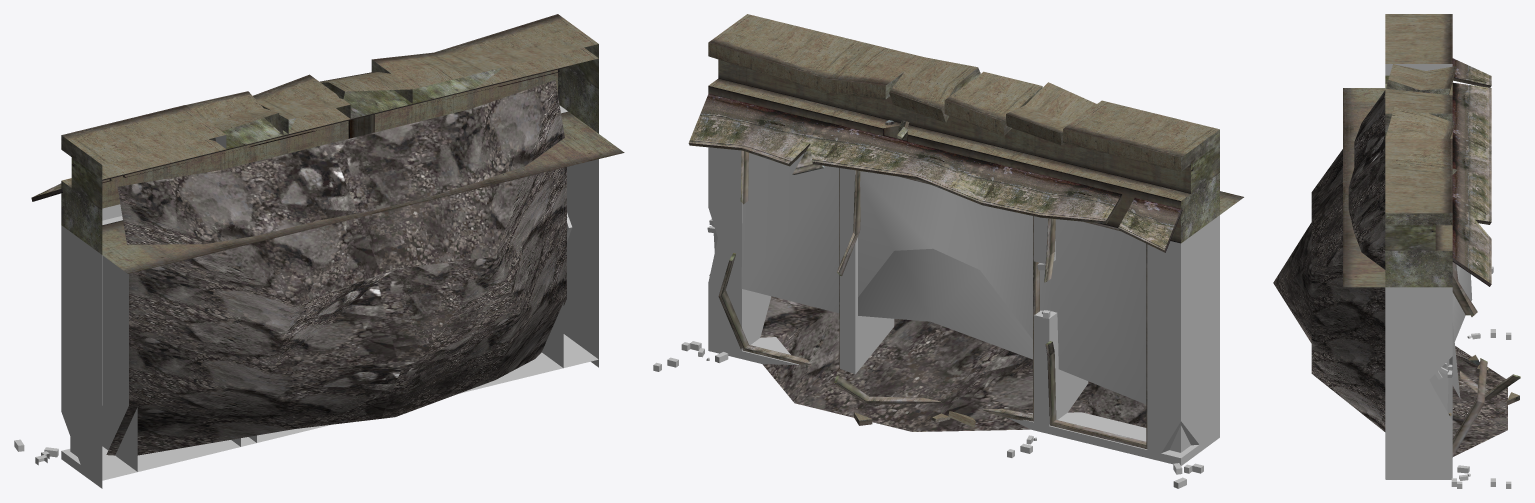
Rendered from Store_front_18_A.fbx.
3 renders of one model, left to right at view 1: azimuth 30°, elevation 25°; view 2: azimuth 150°, elevation 25°; view 3: azimuth 270°, elevation 25°, orthographic. The views are drawn at different scales.
Parts seen in each view (by area): view 1: Store_front_18_A; view 2: Store_front_18_A; view 3: Store_front_18_A.
Boxes of the visible parts, x1,y1,x2,y2 form: Store_front_18_A: [14, 14, 624, 488]; Store_front_18_A: [653, 14, 1243, 488]; Store_front_18_A: [1273, 14, 1520, 488].
Size of the model in its own units: 766 by 449 by 367.
